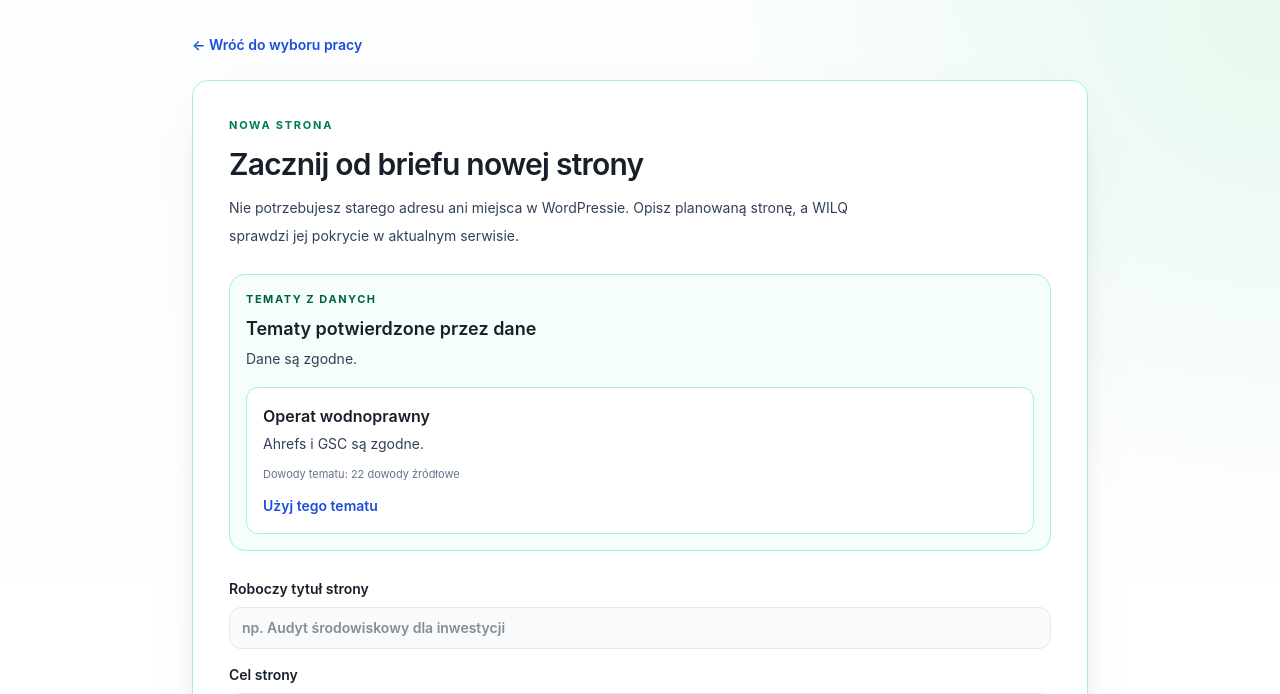
Test: ContentWorkflowEntryPanel › prefills only an exact evidence-bound topic and preserves the manual brief path
Click the button "Użyj tego tematu" at (320, 506), box [263,496,378,516]
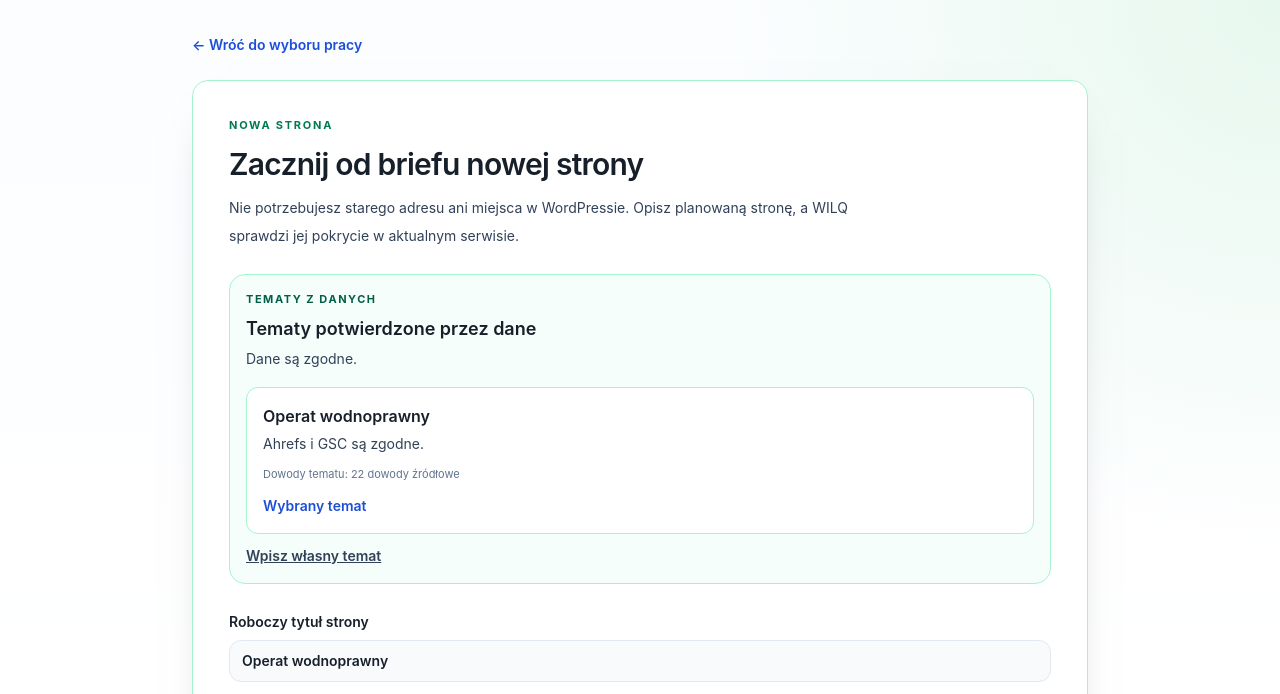
Expected: the text "Dowody tematu: 22 dowody źródłowe" is shown, [263,467,460,481]
Expected: the field labelled "Roboczy tytuł strony" holds "Operat wodnoprawny", [229,640,1051,682]
Click the button "Wpisz własny temat" at (314, 556), box [246,546,381,566]
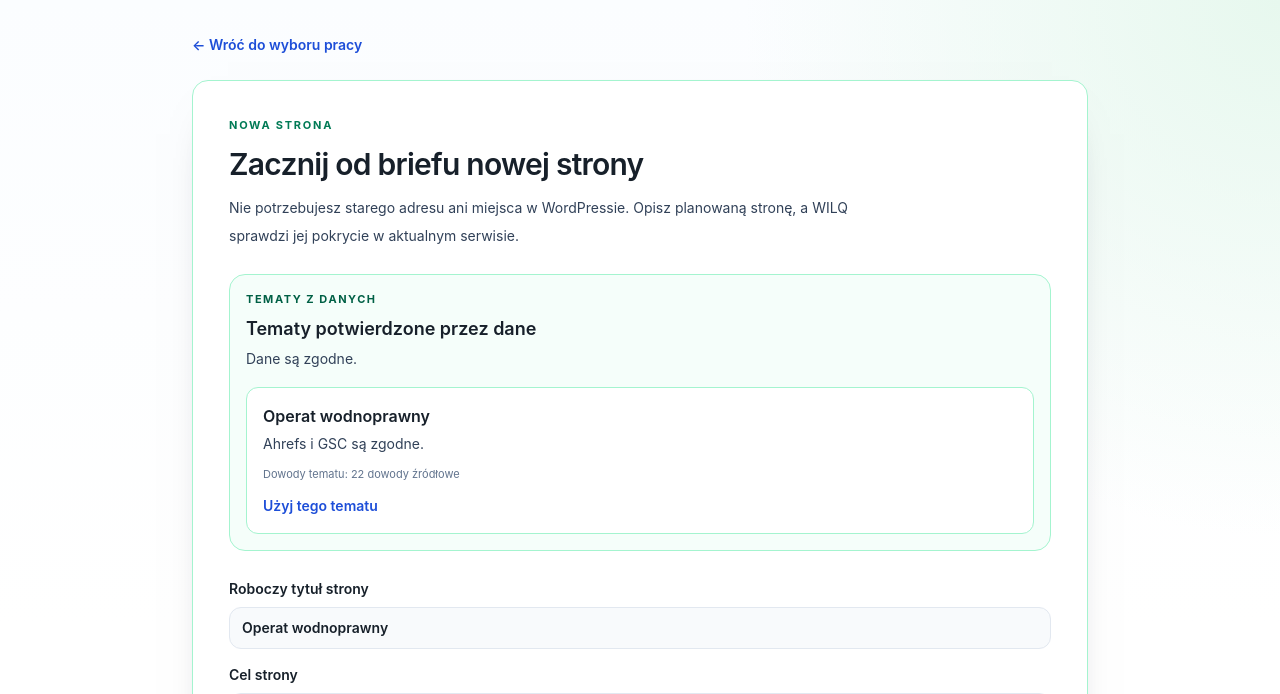
Expected: the button "Użyj tego tematu" is shown, [263,496,378,516]
